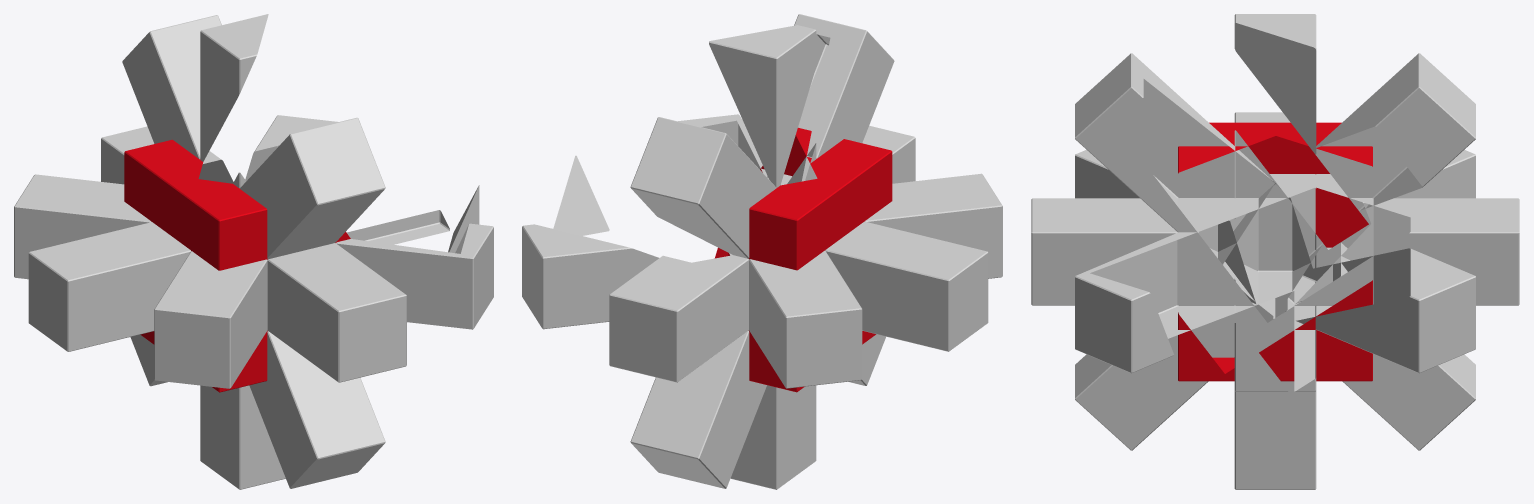
Rendered from InjRoller.fbx.
3 views of the same model, side by side, from view 1: azimuth 30°, elevation 25°; view 2: azimuth 150°, elevation 25°; view 3: azimuth 270°, elevation 25° (orthographic). The views are drawn at different scales.
Visible parts, largest first — view 1: Cube; view 2: Cube; view 3: Cube.
Part boxes in pixels (box(x1,y1,x2,y2)): Cube: box(14, 14, 493, 489); Cube: box(522, 14, 1002, 489); Cube: box(1031, 14, 1519, 489).
Size of the model in its own units: 600 by 600 by 600.
